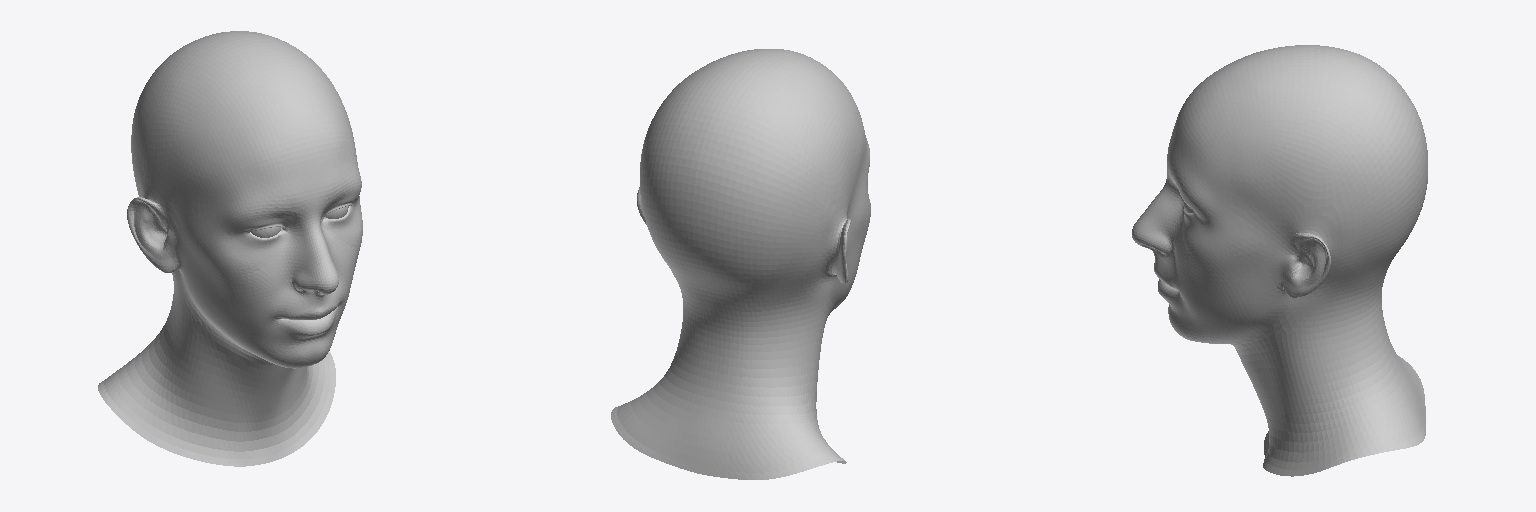
File: facebuilder_1.obj
3 renders of one model, left to right at view 1: azimuth 30°, elevation 25°; view 2: azimuth 150°, elevation 25°; view 3: azimuth 270°, elevation 25°, orthographic.
Visible parts, largest first — view 1: FBHead.001; view 2: FBHead.001; view 3: FBHead.001.
Part boxes in pixels (left/top/right/bottom): FBHead.001: left=98, top=31, right=362, bottom=466; FBHead.001: left=611, top=49, right=870, bottom=479; FBHead.001: left=1132, top=45, right=1427, bottom=476.
Bounding box in the file's own units: 1.78 × 3.11 × 2.07.